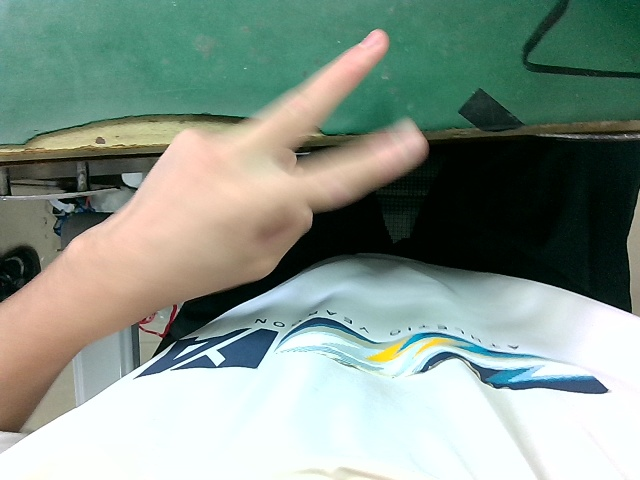scissor: (128, 16, 446, 348)
